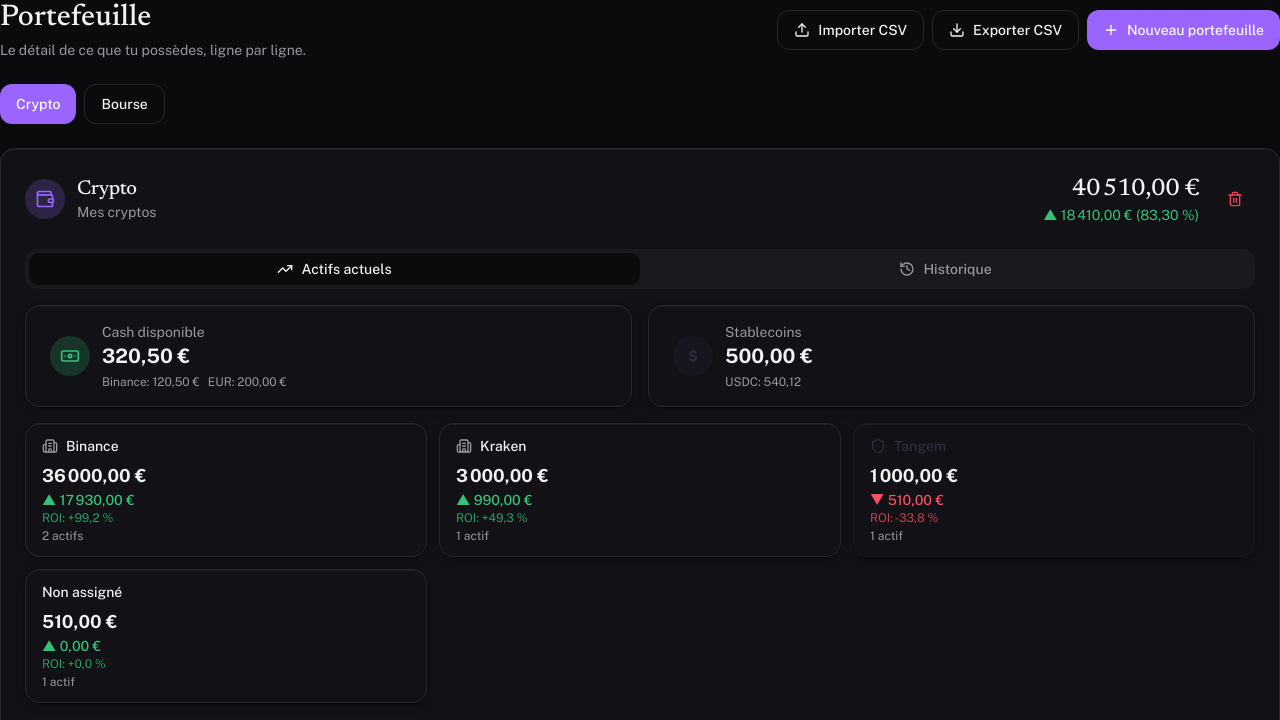
portefeuille — défauts corrigés › montre un état d’erreur quand l’historique ne charge pas
Step 1. Press the mouse on the tab "Historique" → (946, 269), box [640,253,1251,285]
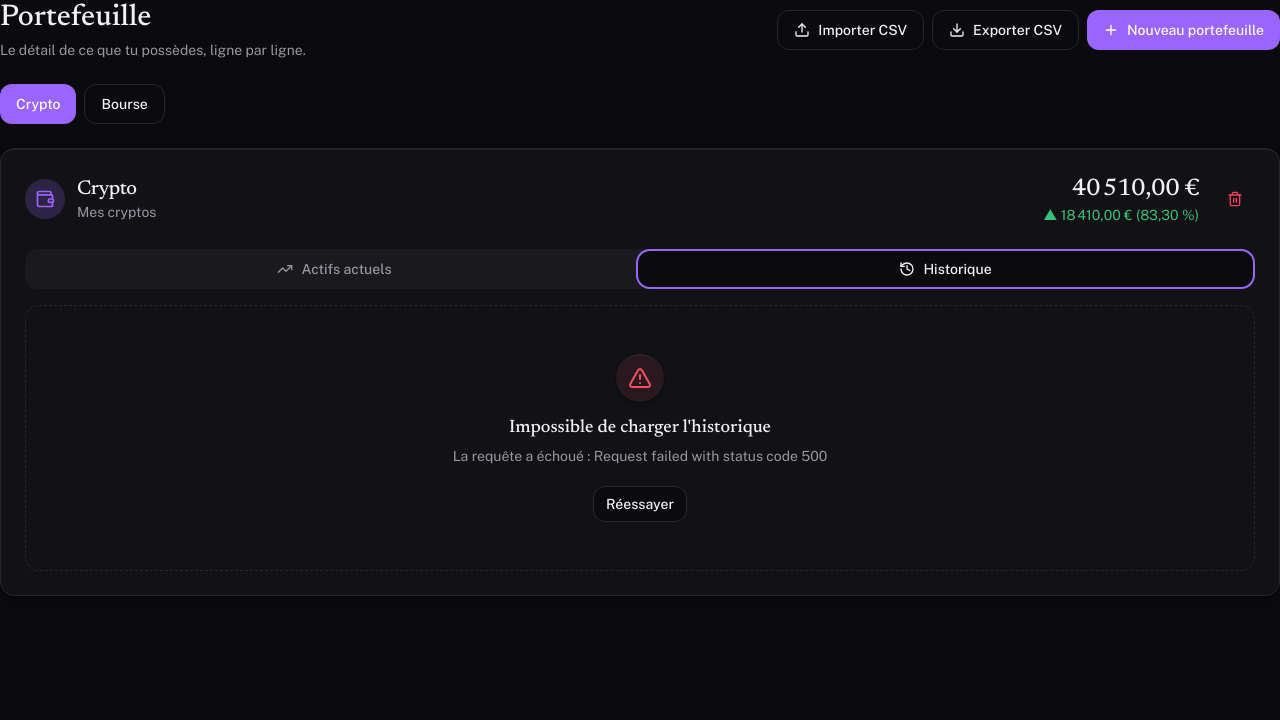
Now the text "Impossible de charger l'historique" is shown, box [509,419,771,437]
